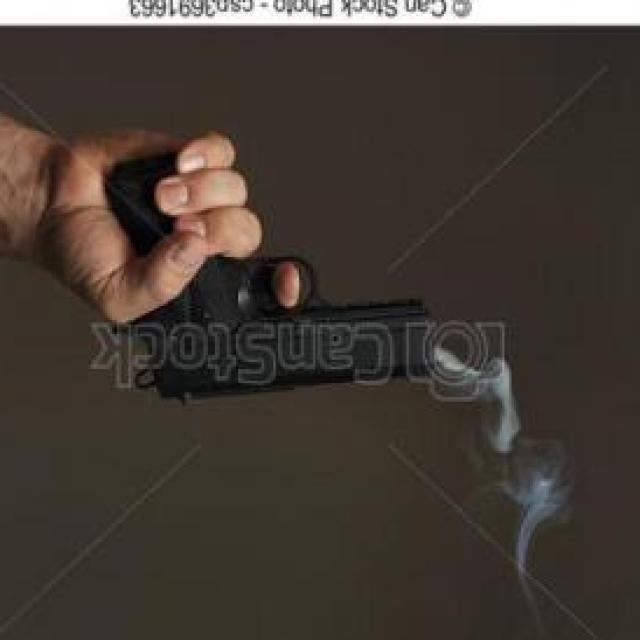pistol: (96, 152, 439, 404)
